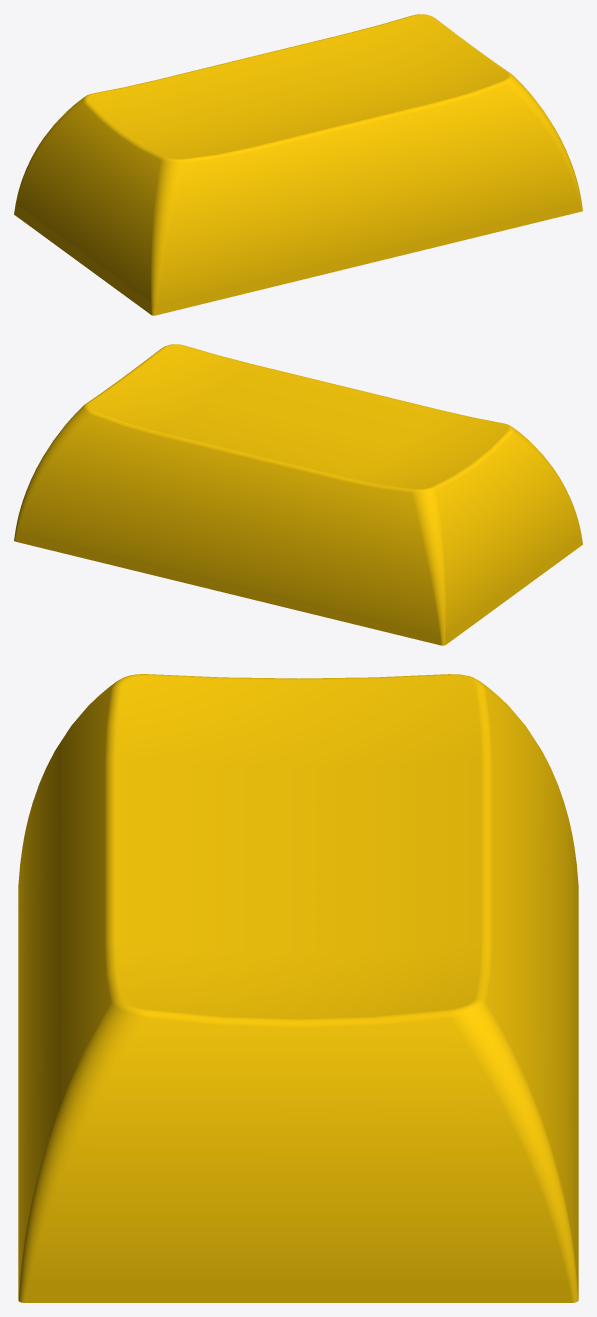
3 renders of one model, top to bottom at view 1: azimuth 30°, elevation 25°; view 2: azimuth 150°, elevation 25°; view 3: azimuth 270°, elevation 25°, orthographic. The views are drawn at different scales.
Parts seen in each view (by area): view 1: Body14; view 2: Body14; view 3: Body14.
Part boxes in pixels (x1,y1,x2,y2): Body14: (14,14,582,315); Body14: (14,344,582,645); Body14: (18,674,578,1302).
Size of the model in its own units: 32.56 by 9.05 by 18.31.
